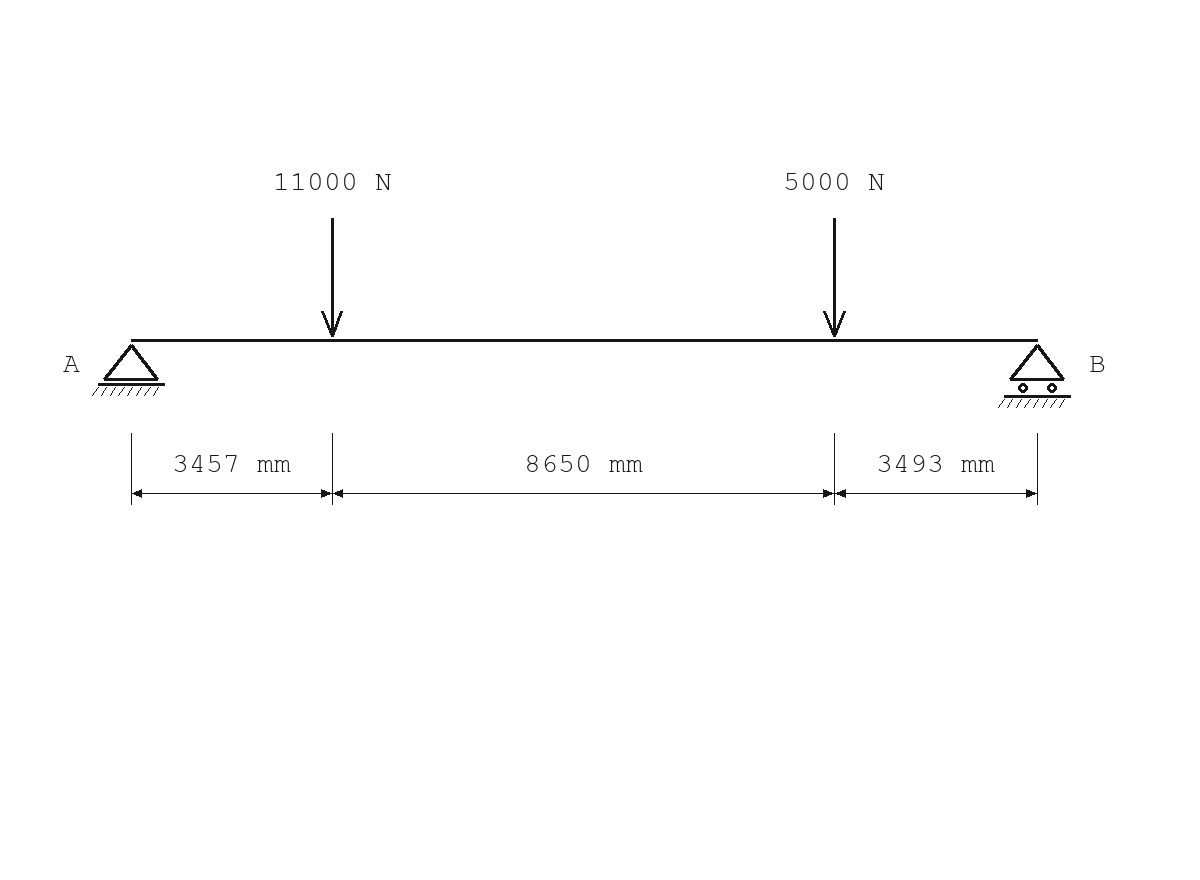pin_support: (92, 344, 165, 396)
point_load: (823, 218, 846, 337), (321, 218, 343, 337)
roller_support: (998, 344, 1071, 408)
